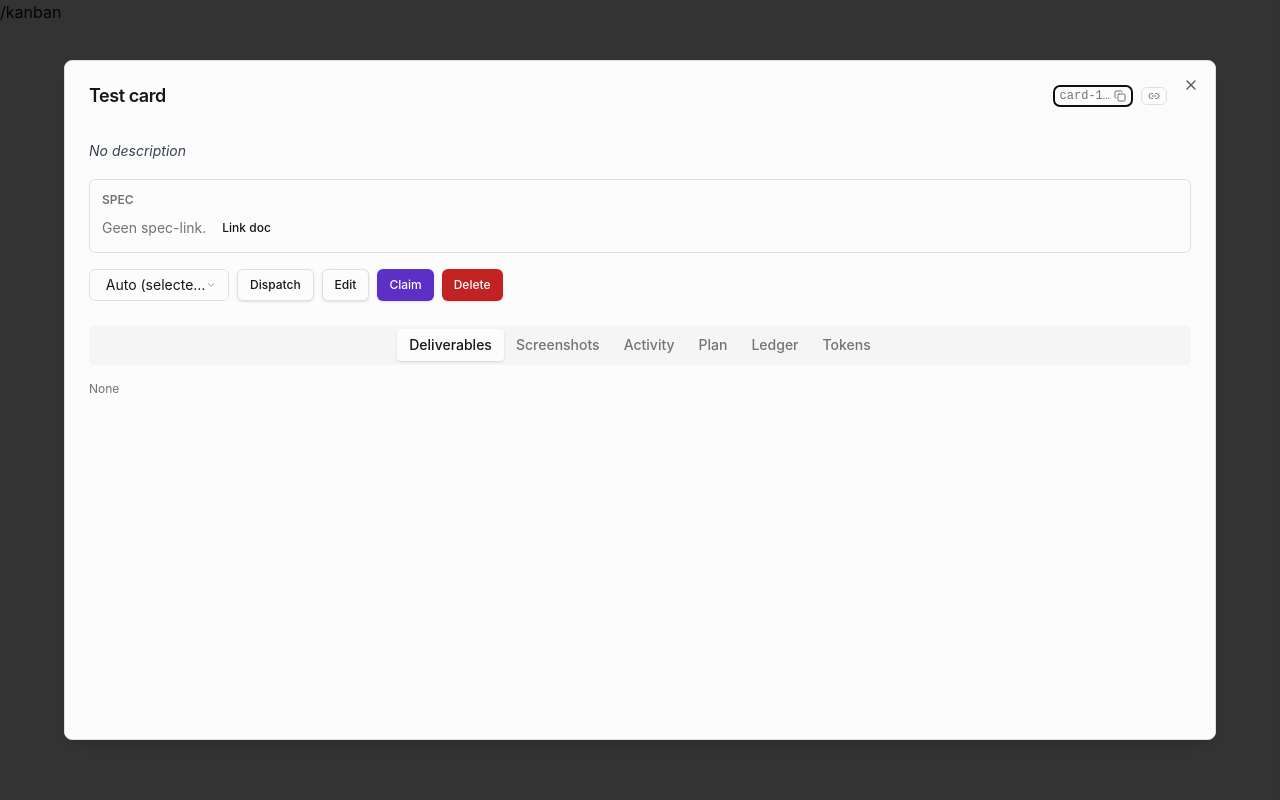
CardDrawer live activity › picks up new activity entries while the drawer stays open, without being closed and reopened
Press the mouse on the tab "Activity" at (649, 345), box left=612, top=329, right=687, bottom=361
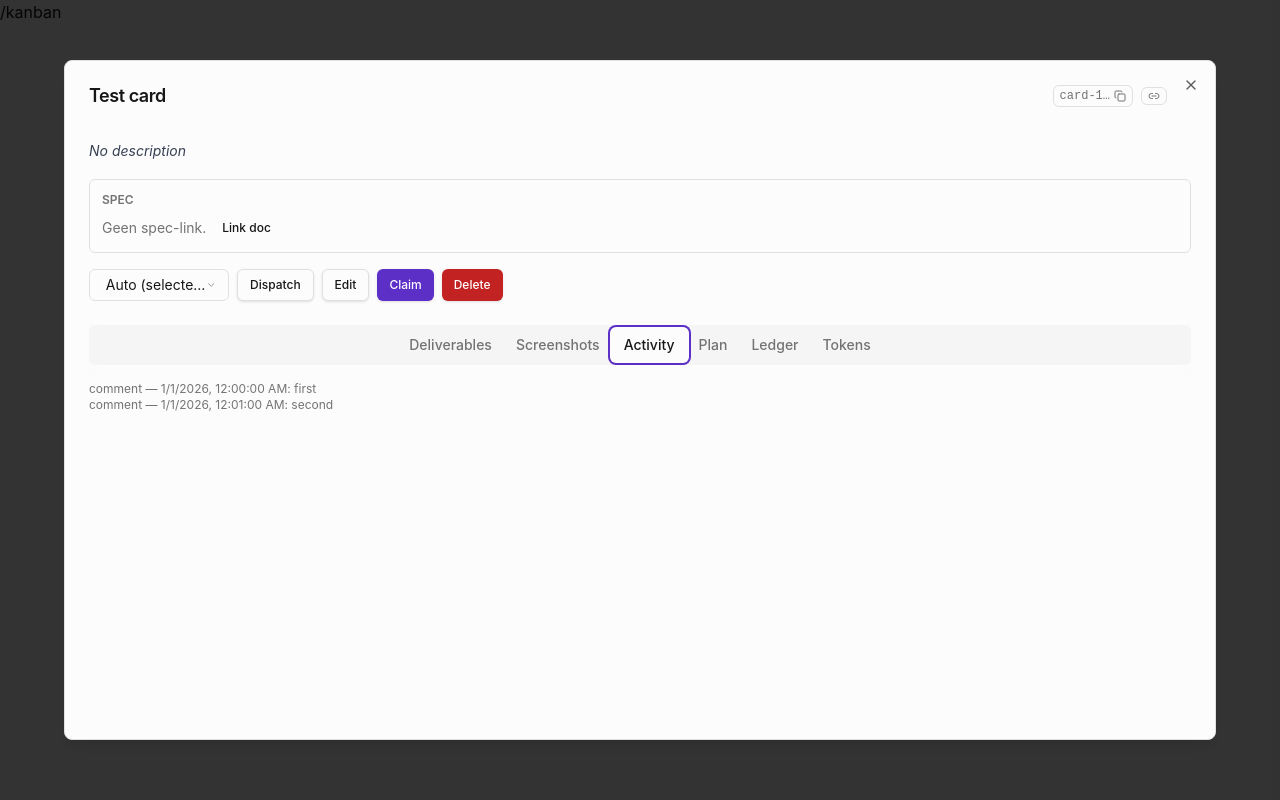
Check: the text "comment — 1/1/2026, 12:00:00 AM: first" is shown, box left=89, top=381, right=316, bottom=396
Check: the text "comment — 1/1/2026, 12:01:00 AM: second" is shown, box left=89, top=397, right=333, bottom=412
